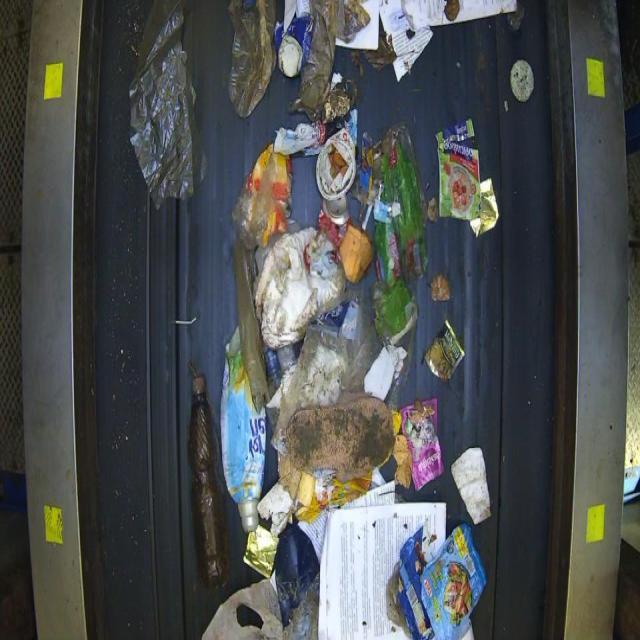trashbin: (17, 0, 631, 639)
